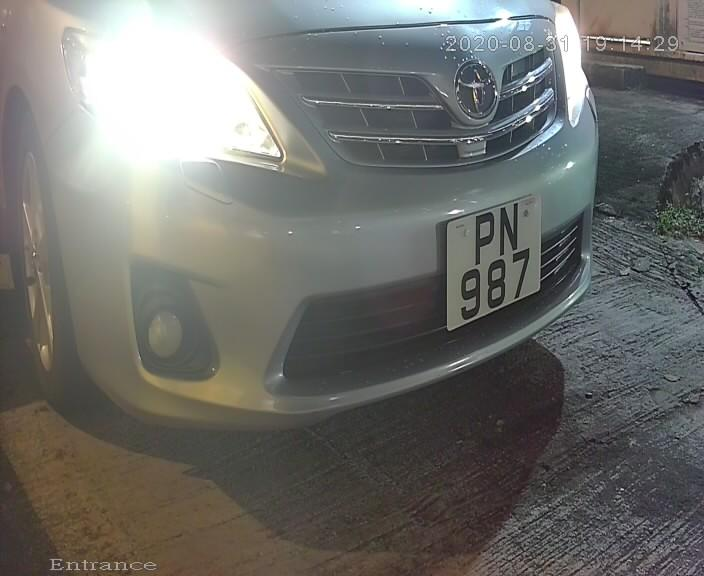License Plate: (431, 183, 554, 337)
